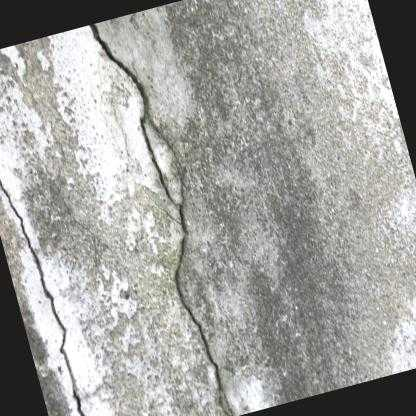crack: (85, 23, 234, 416), (0, 176, 88, 416)
